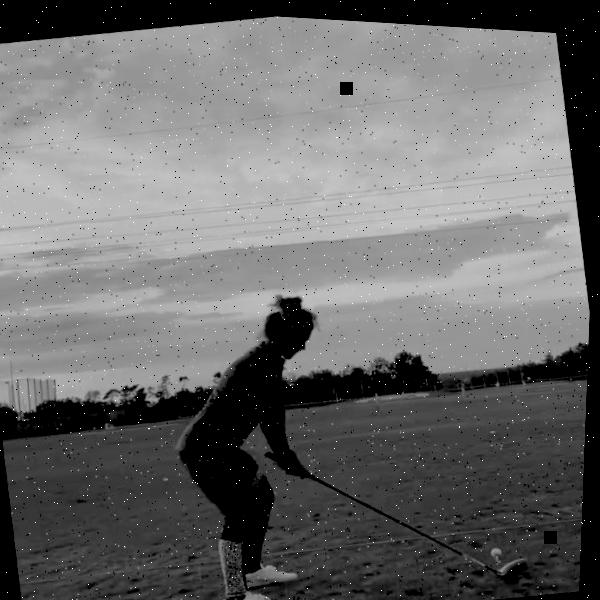ClubHead: (502, 550, 535, 572)
GolfBall: (495, 542, 506, 552)
